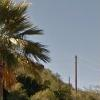Palm tree: (2, 1, 47, 94)
